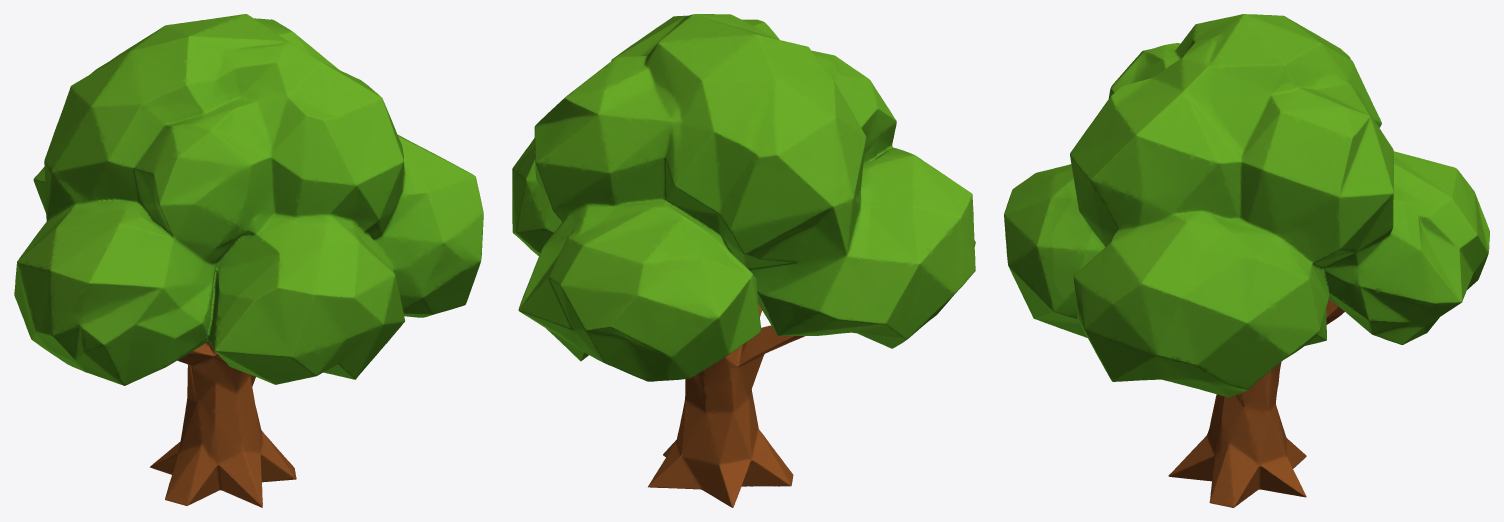
File: arvore 3.glb
3 views of the same model, side by side, from view 1: azimuth 30°, elevation 25°; view 2: azimuth 150°, elevation 25°; view 3: azimuth 270°, elevation 25° (orthographic).
Bounding box in the file's own units: 1.88 × 1.9 × 1.87.
Materials: 1 (1 with a texture image).
